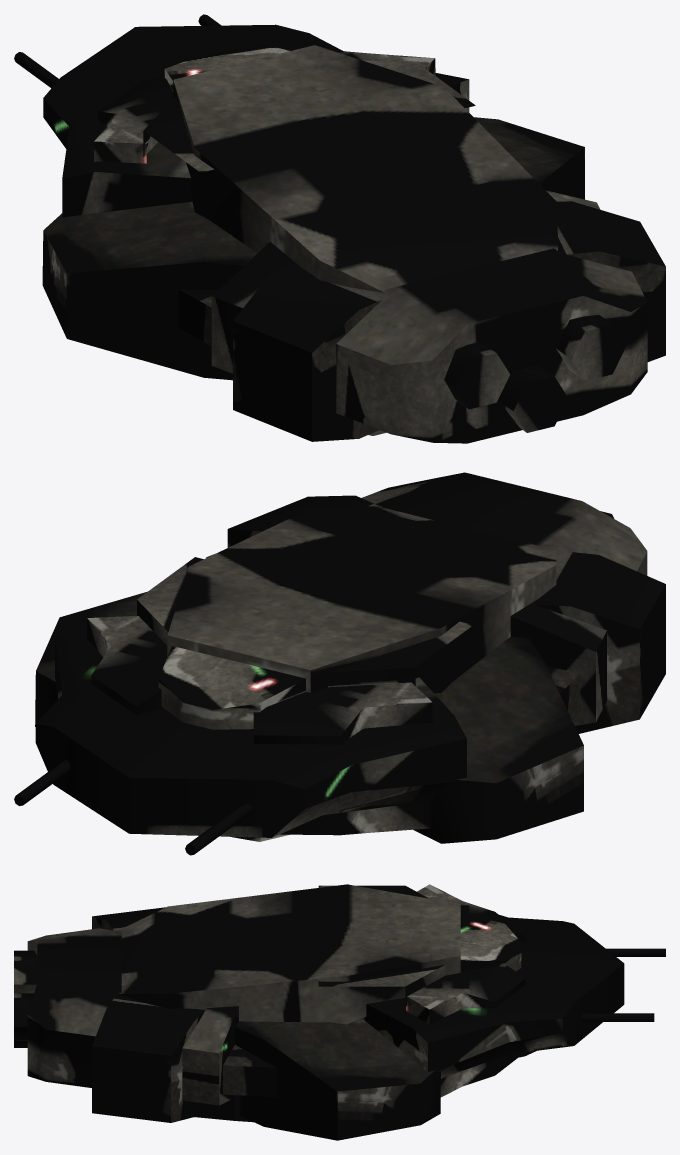
File: ship09a.fbx
3 views of the same model, one above another, from view 1: azimuth 30°, elevation 25°; view 2: azimuth 150°, elevation 25°; view 3: azimuth 270°, elevation 25° (orthographic). The views are drawn at different scales.
Parts seen in each view (by area): view 1: PipelineFBX; view 2: PipelineFBX; view 3: PipelineFBX.
Boxes of the visible parts, x1,y1,x2,y2 form: PipelineFBX: (14, 14, 665, 443); PipelineFBX: (14, 472, 665, 855); PipelineFBX: (14, 884, 665, 1140).
Size of the model in its own units: 54.9 by 21.29 by 79.5.
1 material, 1 textured.
